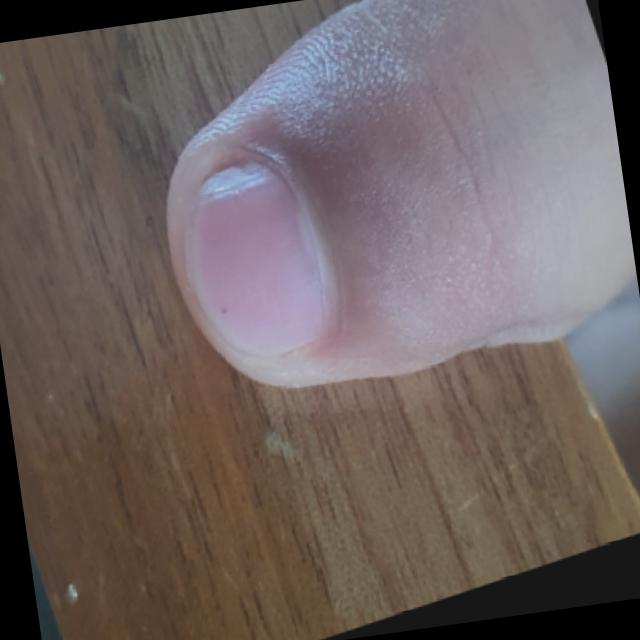Nail: (181, 150, 334, 359)
